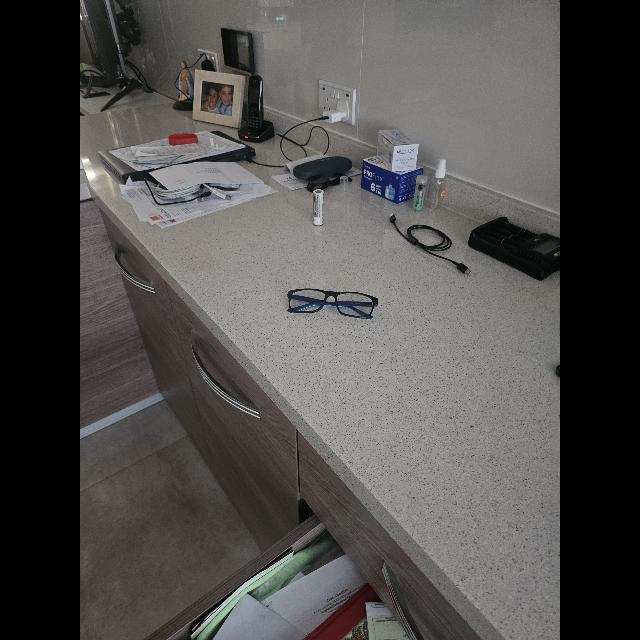glasses: (287, 289, 378, 319)
